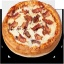pizza: (7, 4, 61, 54)
